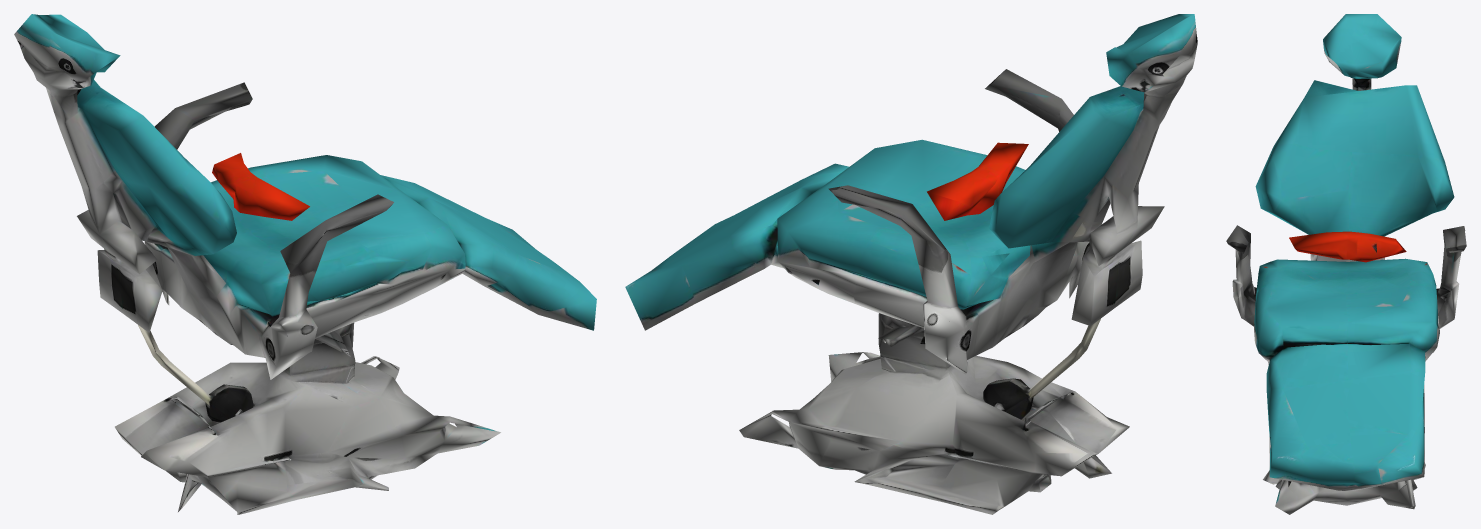
Rendered from chair.glb.
3 views of the same model, side by side, from view 1: azimuth 30°, elevation 25°; view 2: azimuth 150°, elevation 25°; view 3: azimuth 270°, elevation 25° (orthographic). The views are drawn at different scales.
Visible parts, largest first — view 1: tripo_node_6ac220c1-988b-4f3d-8eca-d83f7c7e5049; view 2: tripo_node_6ac220c1-988b-4f3d-8eca-d83f7c7e5049; view 3: tripo_node_6ac220c1-988b-4f3d-8eca-d83f7c7e5049.
Boxes of the visible parts, x1,y1,x2,y2 form: tripo_node_6ac220c1-988b-4f3d-8eca-d83f7c7e5049: (14,14,596,514); tripo_node_6ac220c1-988b-4f3d-8eca-d83f7c7e5049: (625,14,1197,514); tripo_node_6ac220c1-988b-4f3d-8eca-d83f7c7e5049: (1226,14,1466,514).
Size of the model in its own units: 0.976 by 0.8829 by 0.5238.
Materials: 1 (1 with a texture image).
